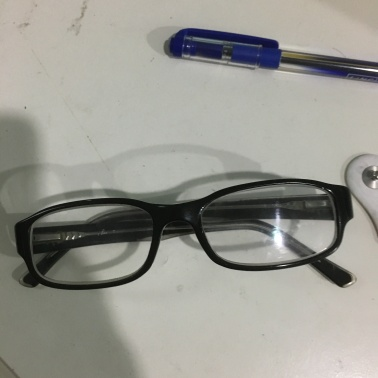glasses: (17, 195, 364, 288)
